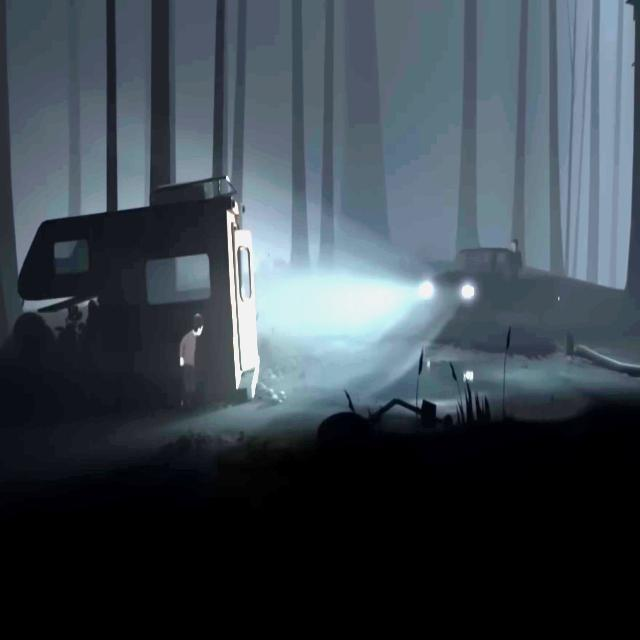boy: (176, 312, 202, 416)
